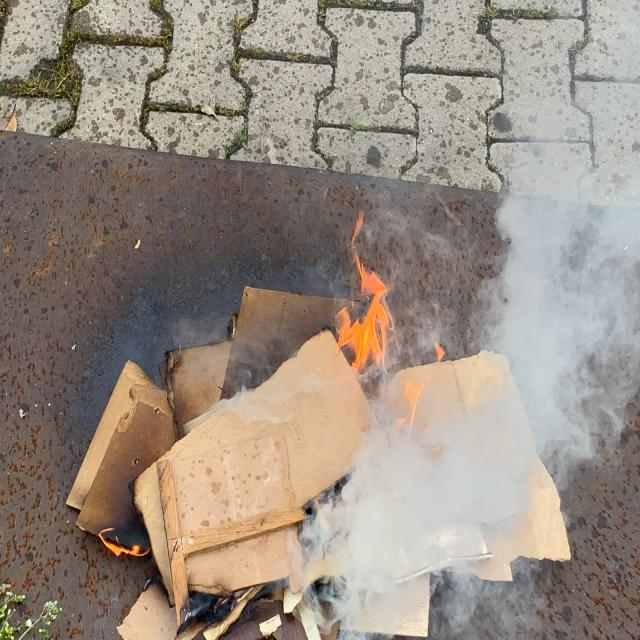fire: (310, 219, 453, 448), (74, 526, 150, 572)
